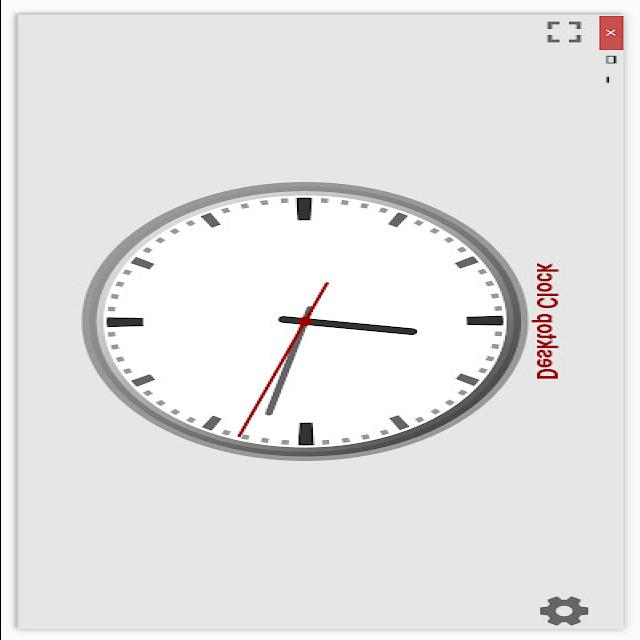clock: (98, 171, 498, 531)
